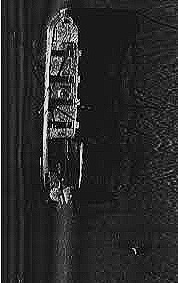ship: (39, 5, 87, 210)
